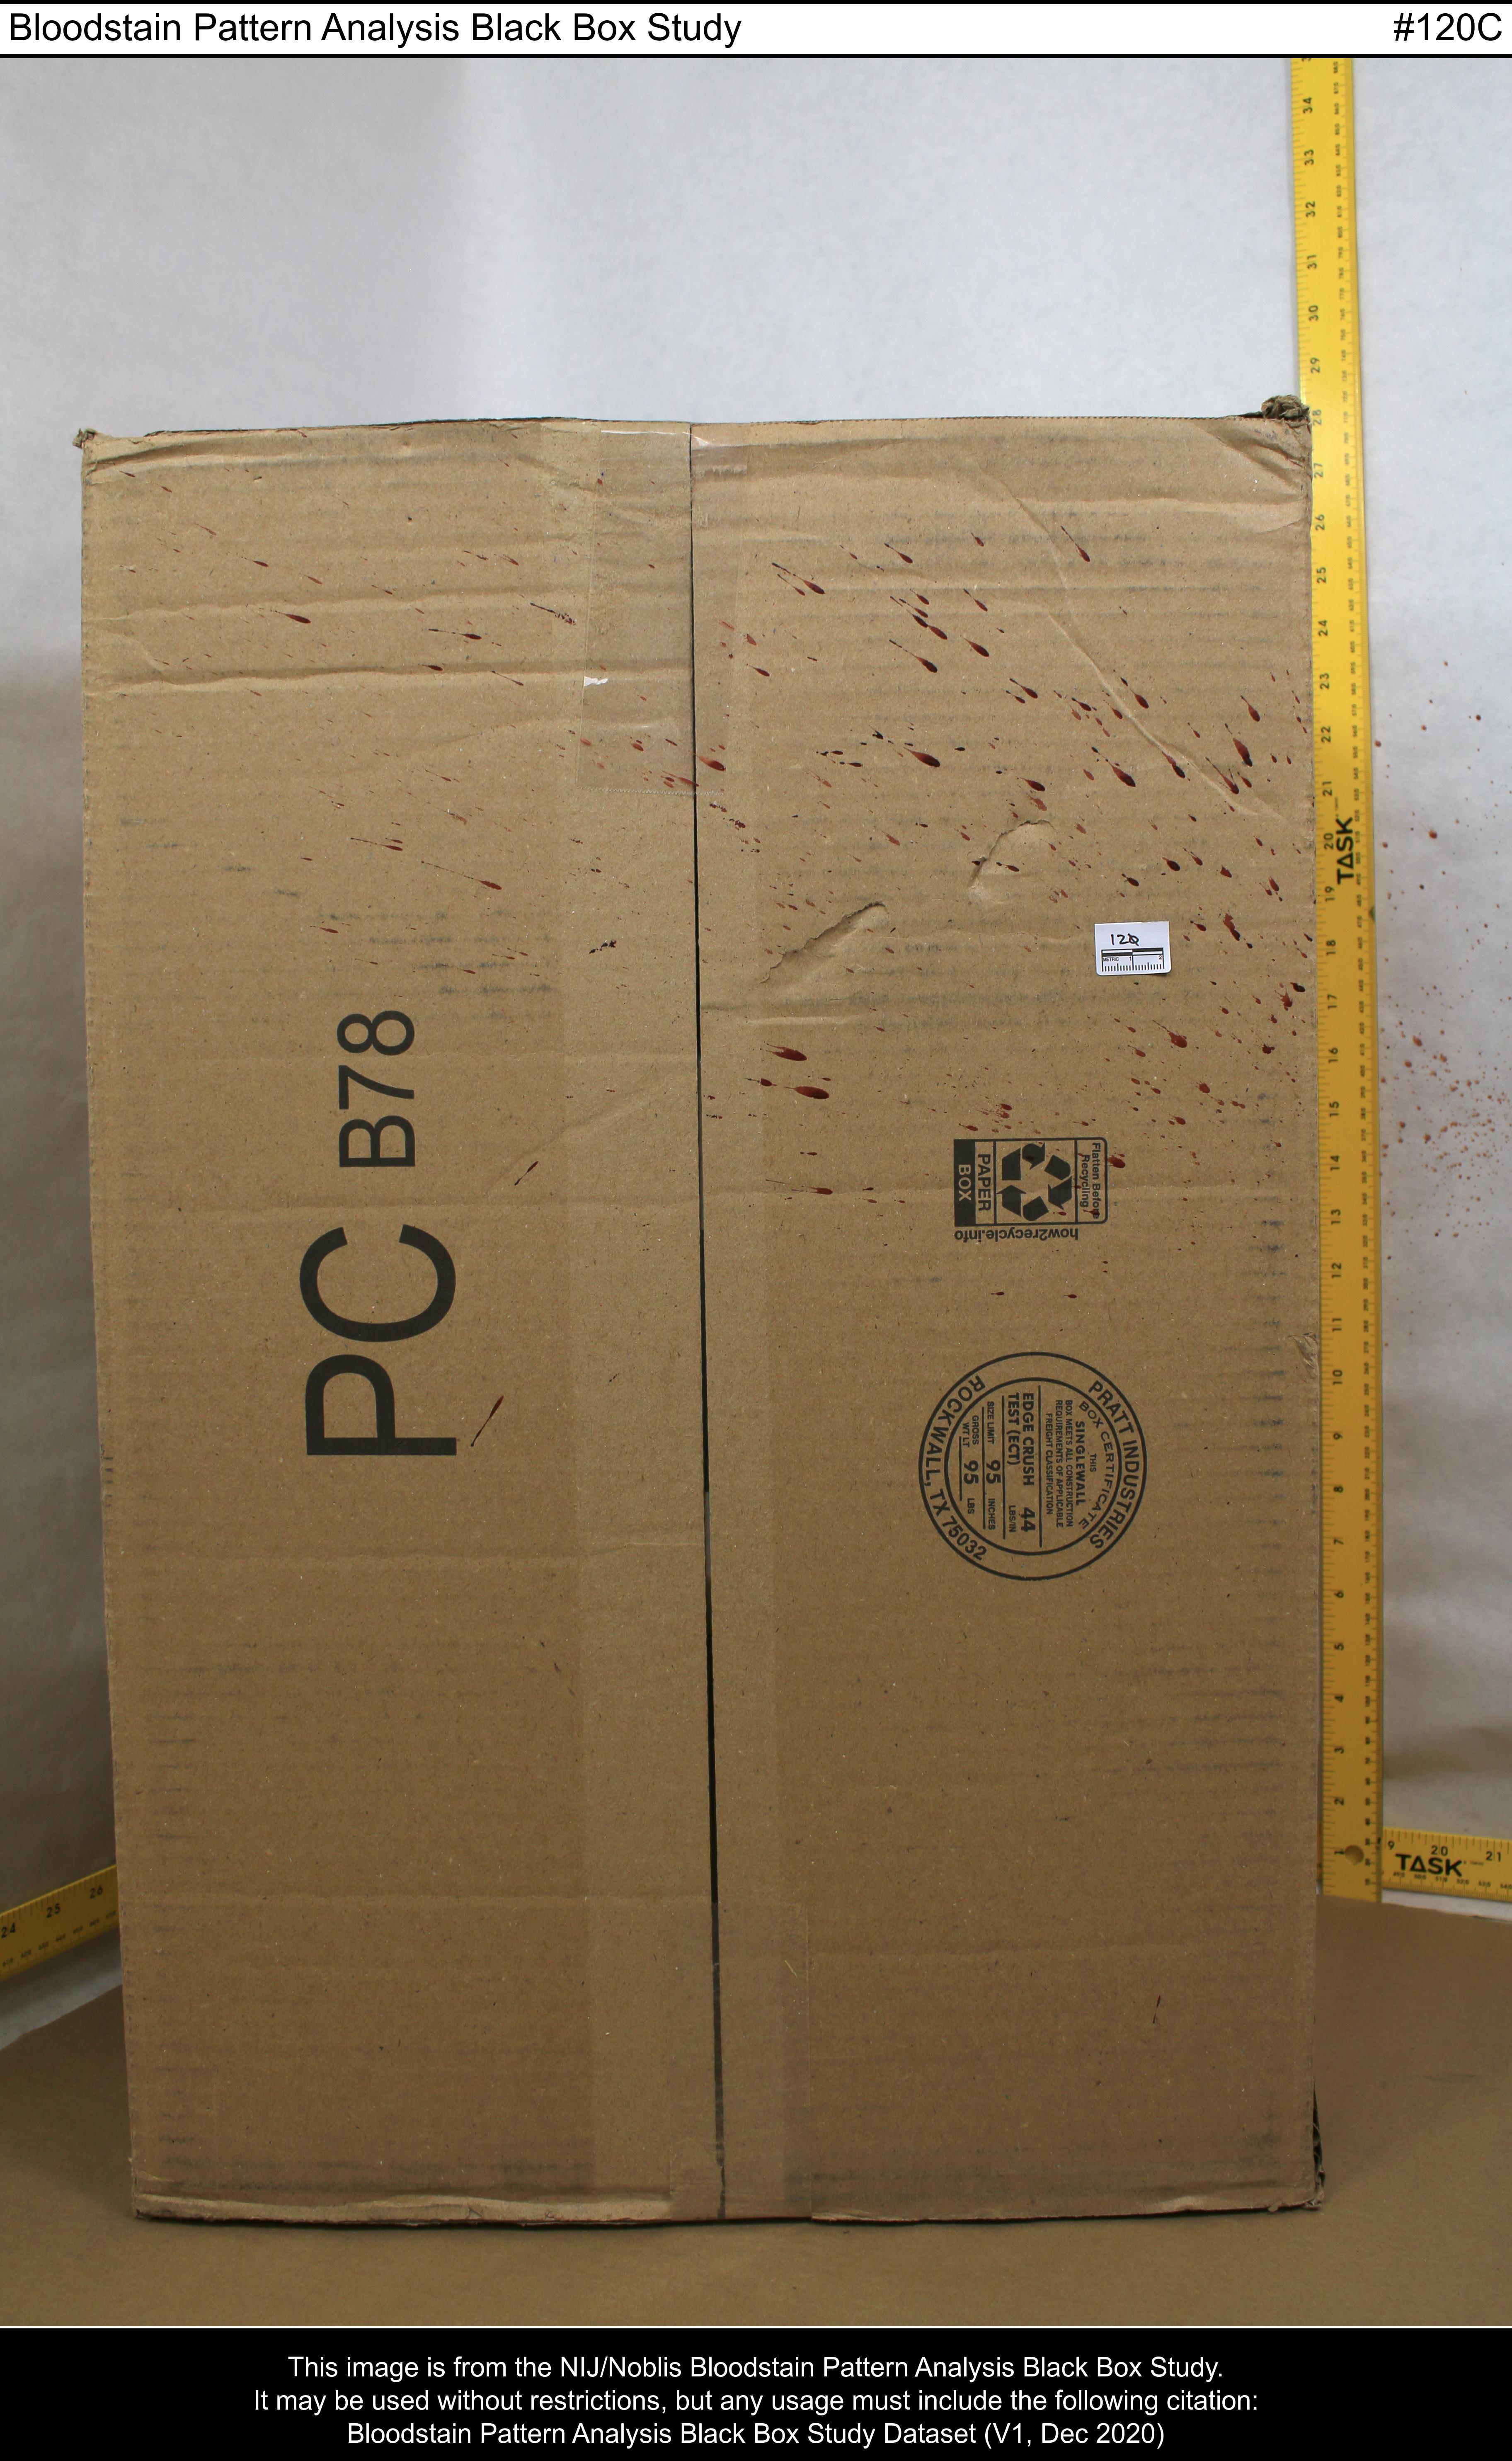Impact: (315, 424, 1501, 1255)
